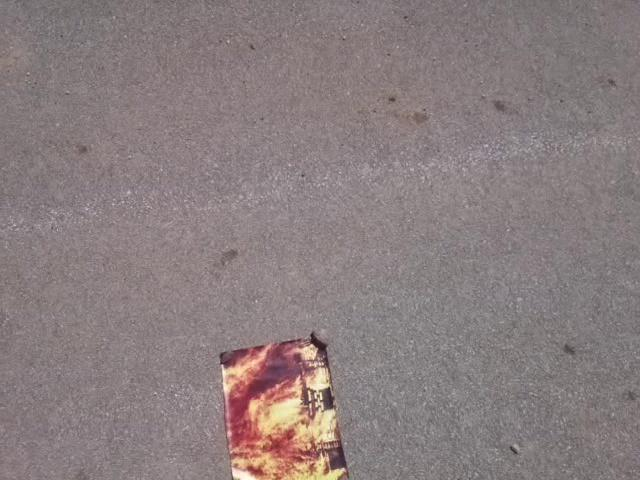fire-poster: (216, 330, 351, 479)
